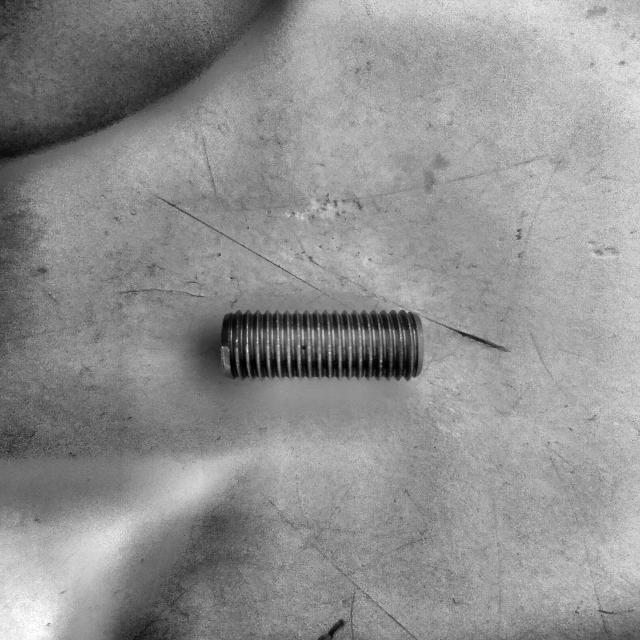Normal: (220, 308, 425, 384)
